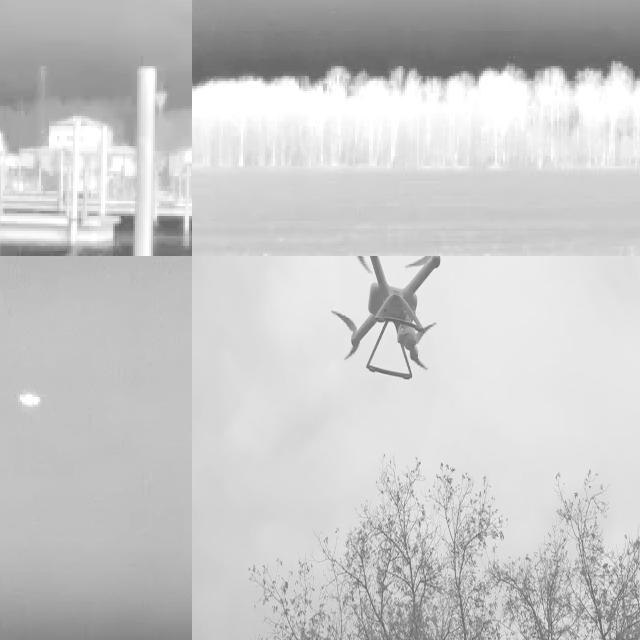1: (19, 387, 53, 415)
drone: (337, 256, 444, 382)
